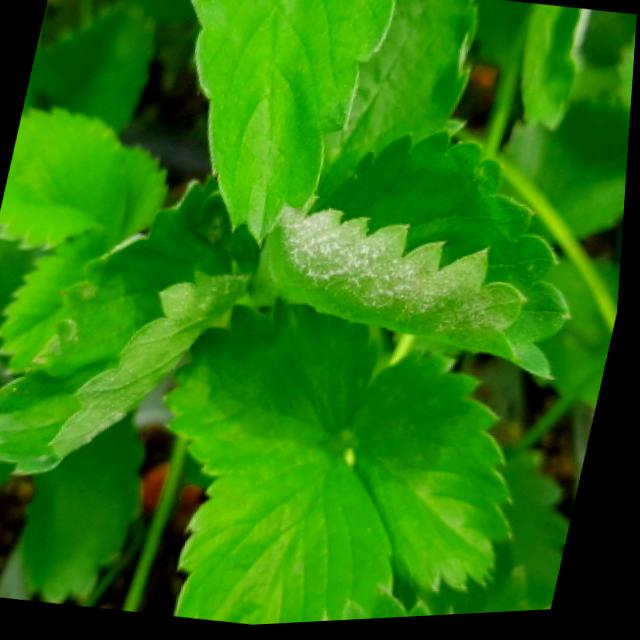Powdery Mildew Leaf: (266, 131, 577, 388), (0, 174, 265, 474), (184, 453, 402, 628), (524, 8, 590, 136)
